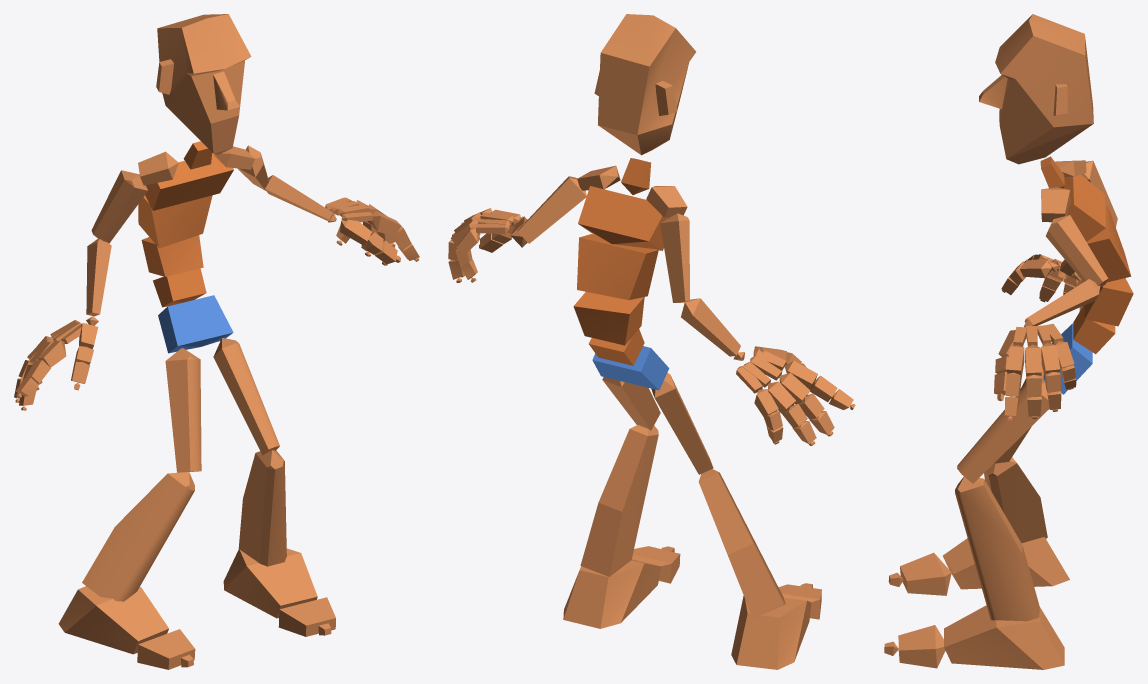
File: prueba178.obj
The picture shows the model from 3 angles, left to right: view 1: azimuth 30°, elevation 25°; view 2: azimuth 150°, elevation 25°; view 3: azimuth 270°, elevation 25°; orthographic projection. The views are drawn at different scales.
Visible parts, largest first — view 1: BOPED_Head, BOPED_R_leg, BOPED_R_foot, BOPED_L_leg, BOPED_R_foot01, BOPED_R_legup, BOPED_L_legup, Bone01, Bone05, Bone04, BOPED_R_arm_upper, Bone03 (+8 smaller); view 2: BOPED_Head, BOPED_L_leg, BOPED_R_leg, BOPED_R_foot01, BOPED_R_foot, Bone04, Bone05, Bone03, BOPED_R_legup, BOPED_R_arm_upper, Bone01, BOPED_L_arm_upper (+8 smaller); view 3: BOPED_Head, BOPED_L_leg, BOPED_R_foot01, BOPED_R_leg, BOPED_L_legup, BOPED_R_foot, BOPED_L_arm_upper, Bone05, BOPED_R_foot_toe01, BOPED_R_foot_toe04, Bone04, Bone03 (+11 smaller).
Boxes of the visible parts, x1,y1,x2,y2 form: BOPED_Head: (156,14,251,154); BOPED_R_leg: (82,472,194,601); BOPED_R_foot: (58,586,168,654); BOPED_L_leg: (238,450,286,566); BOPED_R_foot01: (223,548,317,618); BOPED_R_legup: (165,348,201,472); BOPED_L_legup: (213,338,279,455); Bone01: (158,295,233,353); Bone05: (145,153,233,210); Bone04: (138,195,212,248); BOPED_R_arm_upper: (91,170,147,243); Bone03: (141,235,203,276); BOPED_Head: (594,14,695,155); BOPED_L_leg: (580,425,658,576); BOPED_R_leg: (698,469,785,618); BOPED_R_foot01: (563,559,661,628); BOPED_R_foot: (731,596,811,669); Bone04: (577,234,658,300); Bone05: (578,186,669,250); Bone03: (573,292,644,345); BOPED_R_legup: (651,373,713,474); BOPED_R_arm_upper: (660,213,689,302); Bone01: (592,346,669,390); BOPED_L_arm_upper: (517,176,586,243); BOPED_Head: (979,14,1093,164); BOPED_L_leg: (955,476,1039,621); BOPED_R_foot01: (944,605,1064,669); BOPED_R_leg: (984,457,1047,543); BOPED_L_legup: (957,380,1049,483); BOPED_R_foot: (943,537,1069,589); BOPED_L_arm_upper: (1046,215,1108,287); Bone05: (1063,175,1105,241); BOPED_R_foot_toe01: (900,552,951,595); BOPED_R_foot_toe04: (898,625,945,668); Bone04: (1086,206,1131,282); Bone03: (1084,278,1133,326).
Bounding box in the file's own units: 130 × 184 × 68.24.
